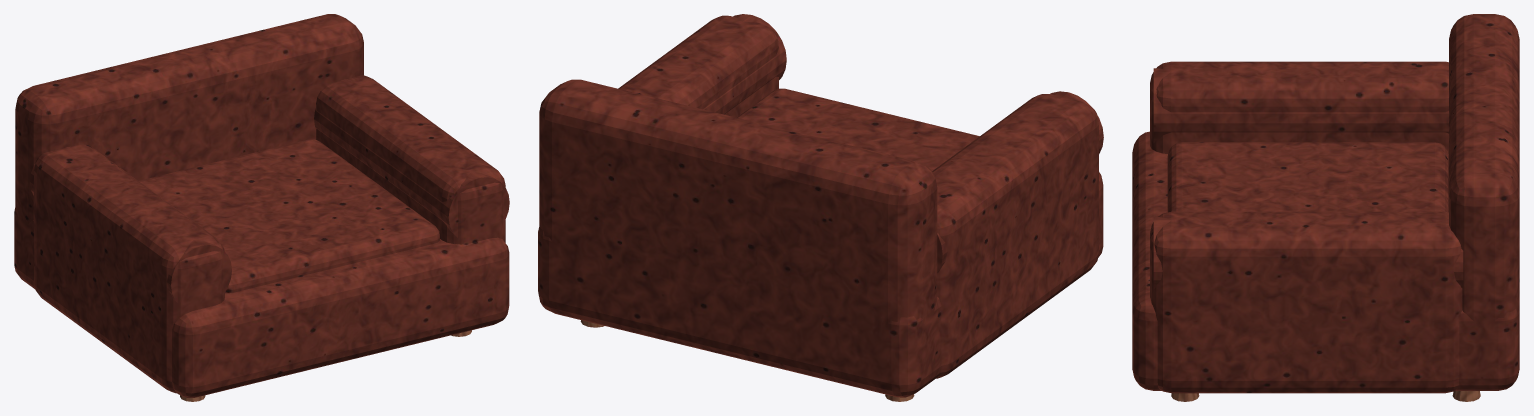
File: armchair.glb
3 views of the same model, side by side, from view 1: azimuth 30°, elevation 25°; view 2: azimuth 150°, elevation 25°; view 3: azimuth 270°, elevation 25° (orthographic). The views are drawn at different scales.
Visible parts, largest first — view 1: armchair; view 2: armchair; view 3: armchair.
Part boxes in pixels (left/top/right/bottom): armchair: left=14, top=14, right=509, bottom=401; armchair: left=538, top=14, right=1103, bottom=401; armchair: left=1132, top=14, right=1519, bottom=401.
Bounding box in the file's own units: 12.3 × 7.2 × 11.
1 material, 1 textured.
